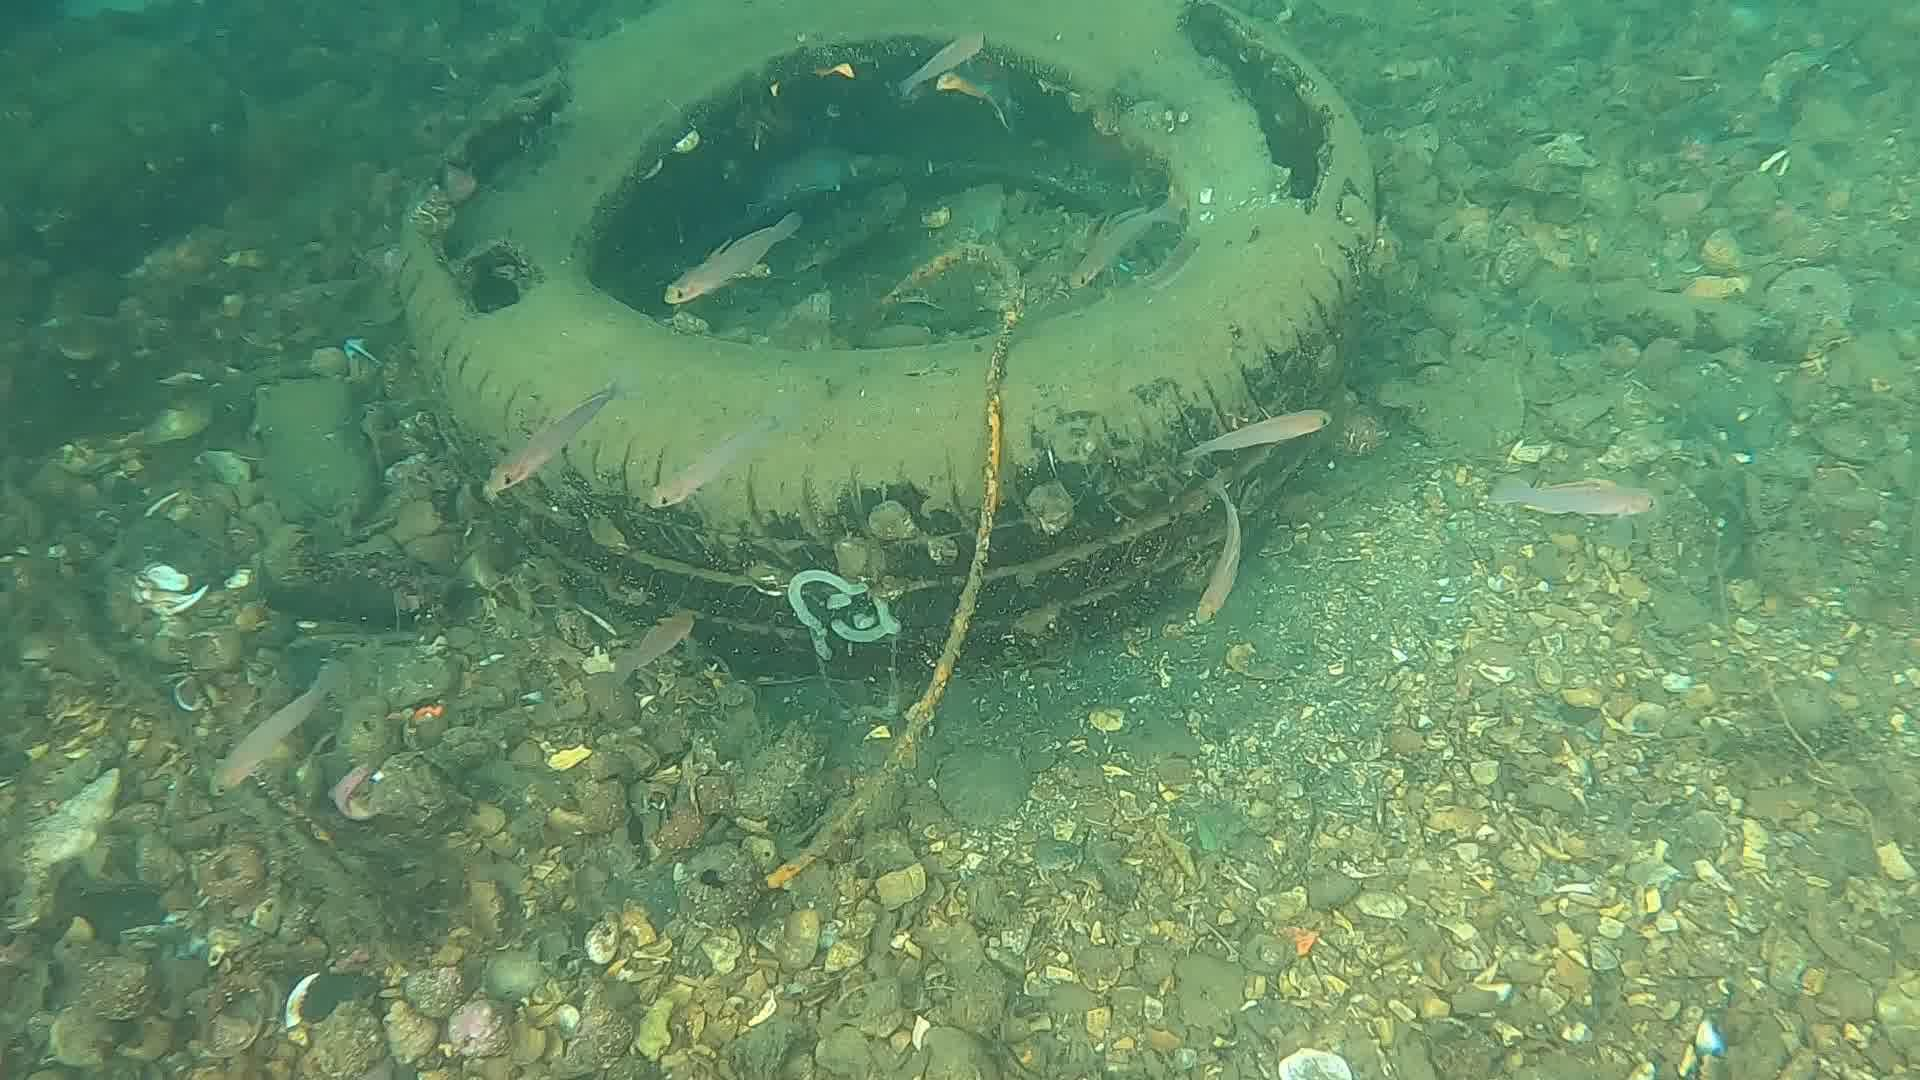tire: (392, 11, 1379, 673)
